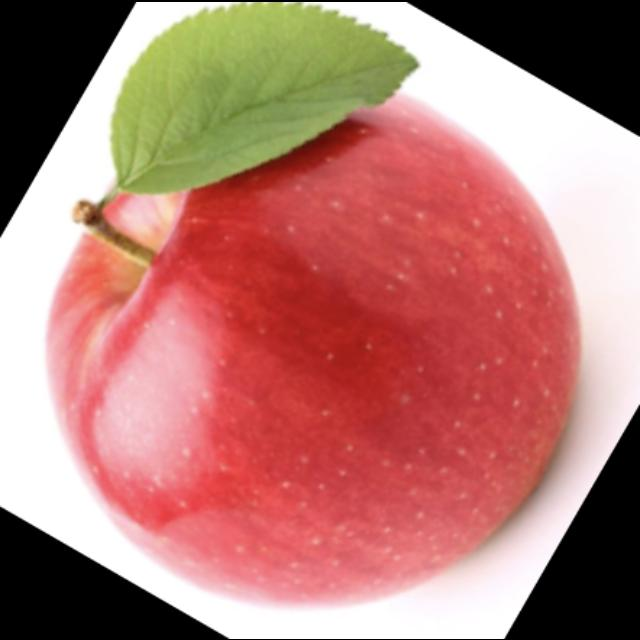Apel Segar: (34, 74, 596, 618)
